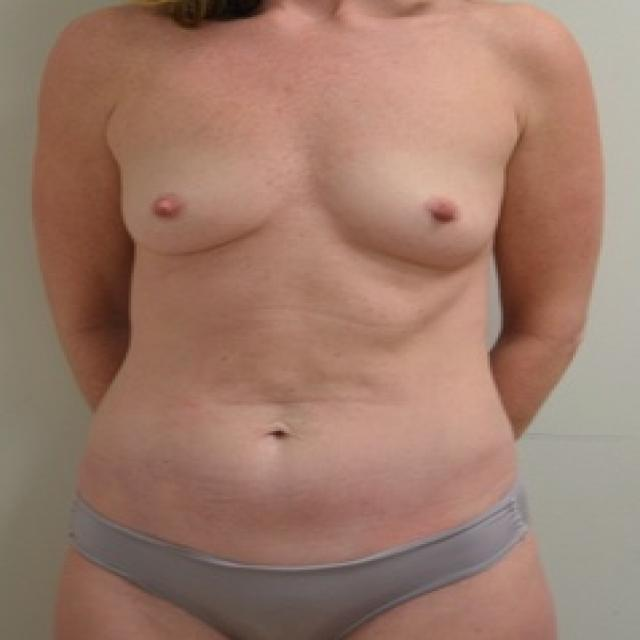Seno ileso: (309, 98, 521, 286), (110, 98, 302, 273)
